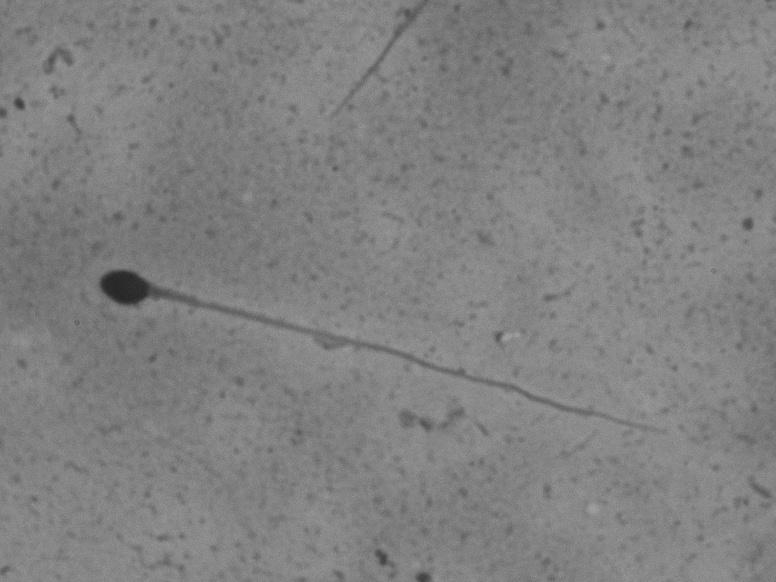Abnormal: (81, 225, 676, 463)
